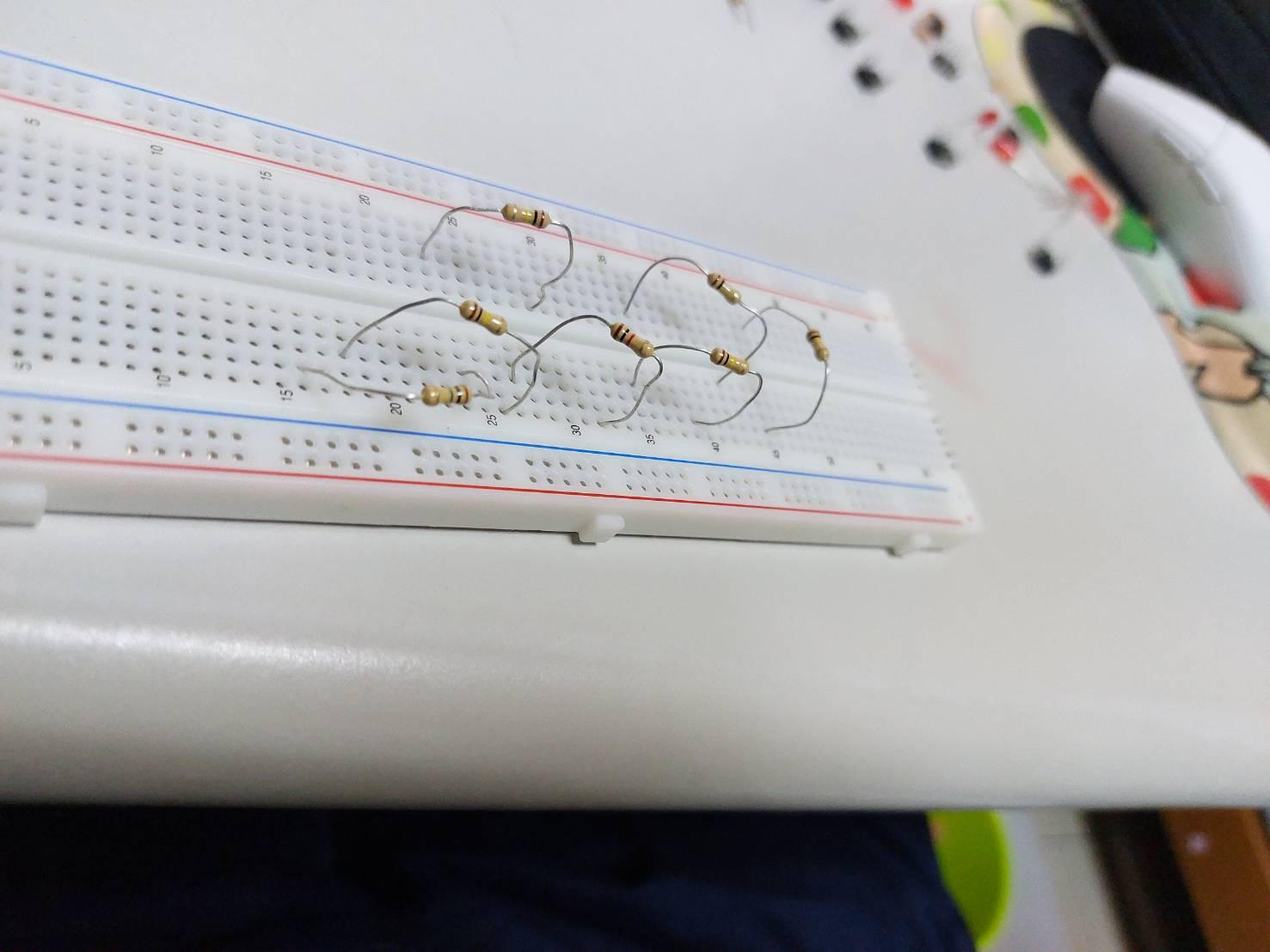resistor: (461, 300, 509, 335), (610, 322, 655, 359), (499, 202, 551, 228), (709, 346, 750, 378), (419, 384, 473, 408), (807, 330, 830, 360)
